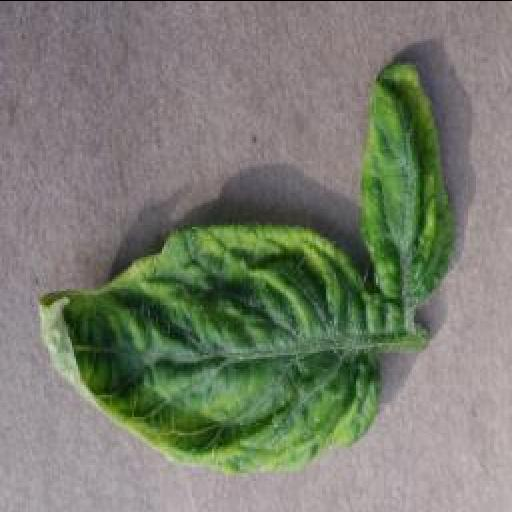disease_tomato: (38, 224, 382, 476), (360, 59, 454, 297)
